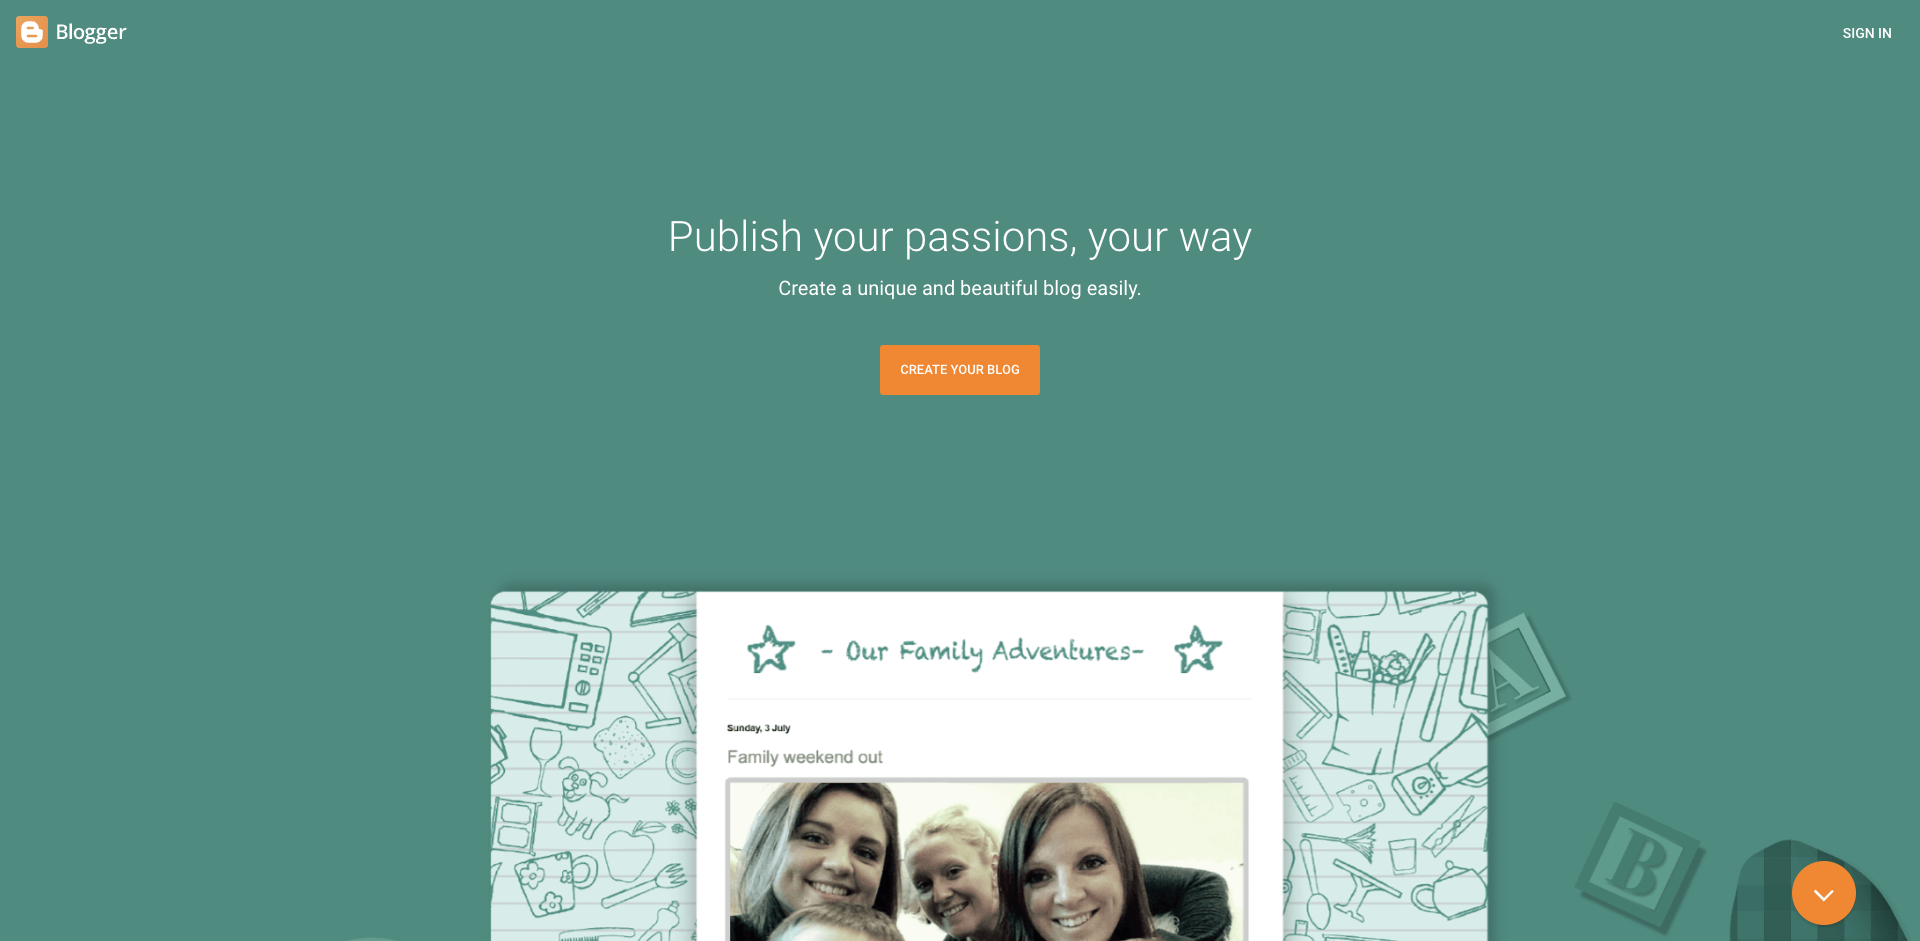button: (1751, 0, 1920, 64)
link: (880, 346, 1040, 395), (1791, 861, 1856, 925), (16, 16, 132, 48), (1827, 13, 1908, 53), (1751, 0, 1911, 1), (0, 0, 1, 1)
